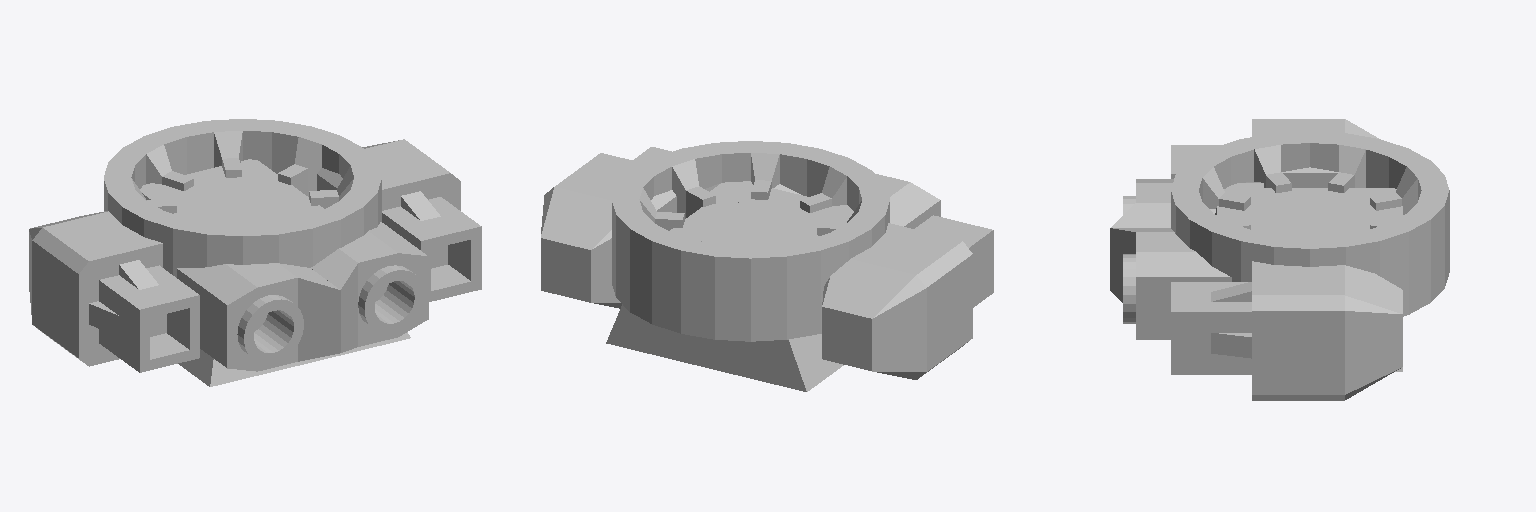
File: flying_01_05.obj
3 views of the same model, side by side, from view 1: azimuth 30°, elevation 25°; view 2: azimuth 150°, elevation 25°; view 3: azimuth 270°, elevation 25° (orthographic).
Parts seen in each view (by area): view 1: mergedBlocks; view 2: mergedBlocks; view 3: mergedBlocks.
Part boxes in pixels (x1,y1,x2,y2): mergedBlocks: (29, 119, 481, 386); mergedBlocks: (541, 141, 993, 391); mergedBlocks: (1110, 119, 1449, 400).
Bounding box in the file's own units: 1.9 × 0.6354 × 1.46.